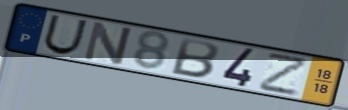4: (221, 47, 255, 89)
8: (130, 30, 175, 73)
B: (168, 36, 221, 80)
N: (81, 20, 136, 67)
U: (41, 13, 90, 56)
Z: (258, 52, 312, 98)
